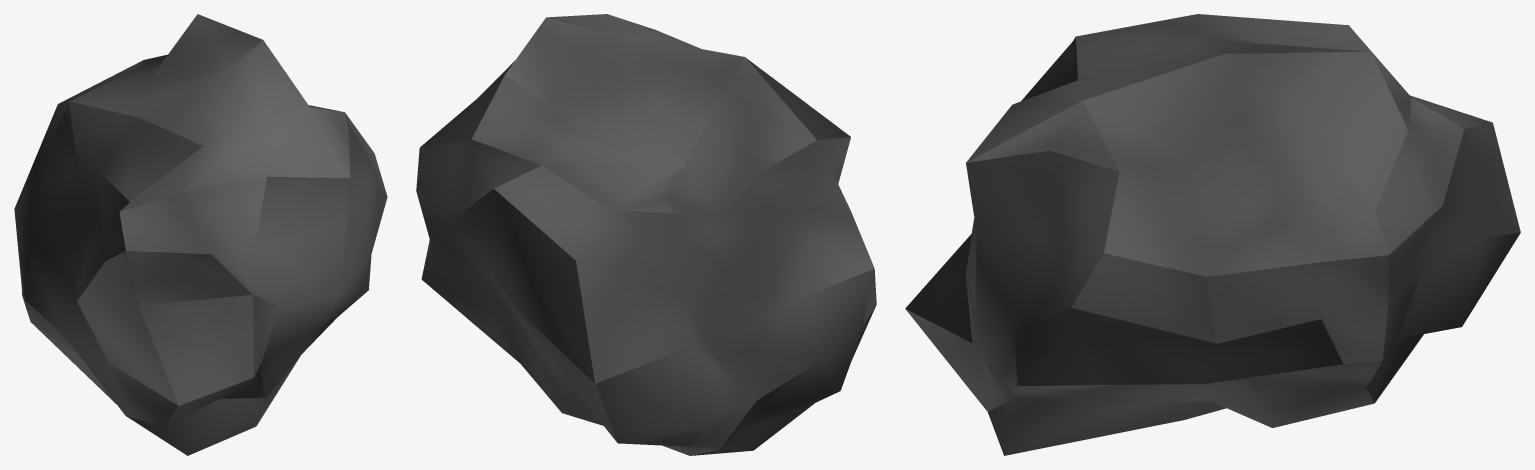
Rendered from GAMEJAMPUFFER - ForeGround Rock 10.fbx.
3 renders of one model, left to right at view 1: azimuth 30°, elevation 25°; view 2: azimuth 150°, elevation 25°; view 3: azimuth 270°, elevation 25°, orthographic. The views are drawn at different scales.
Parts seen in each view (by area): view 1: Cube.005; view 2: Cube.005; view 3: Cube.005.
Boxes of the visible parts, bbox=[...] form: Cube.005: bbox=[14, 14, 387, 455]; Cube.005: bbox=[416, 14, 876, 455]; Cube.005: bbox=[905, 14, 1520, 455].
Size of the model in its own units: 175 by 172 by 198.
Materials: 1 (1 with a texture image).
